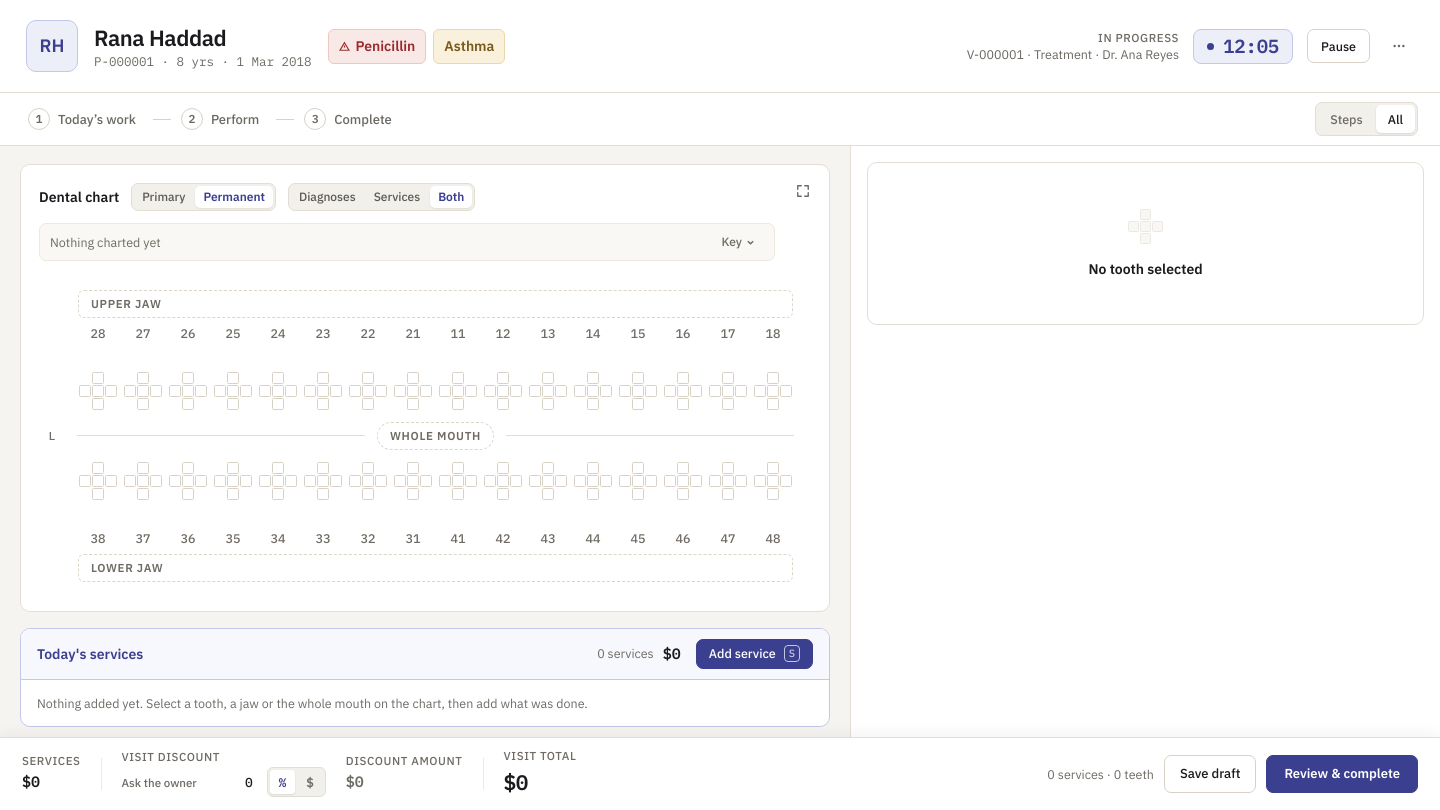
Scenario: ToothPanel › marks a tooth missing from the Presence menu at once, with an Undo toast (feature 7, H1)
Expected: the element named "Upper arch" is shown, [78,324,793,411]
Click the button named "#36 · ".
click(188, 504)  # box [168,461,208,548]
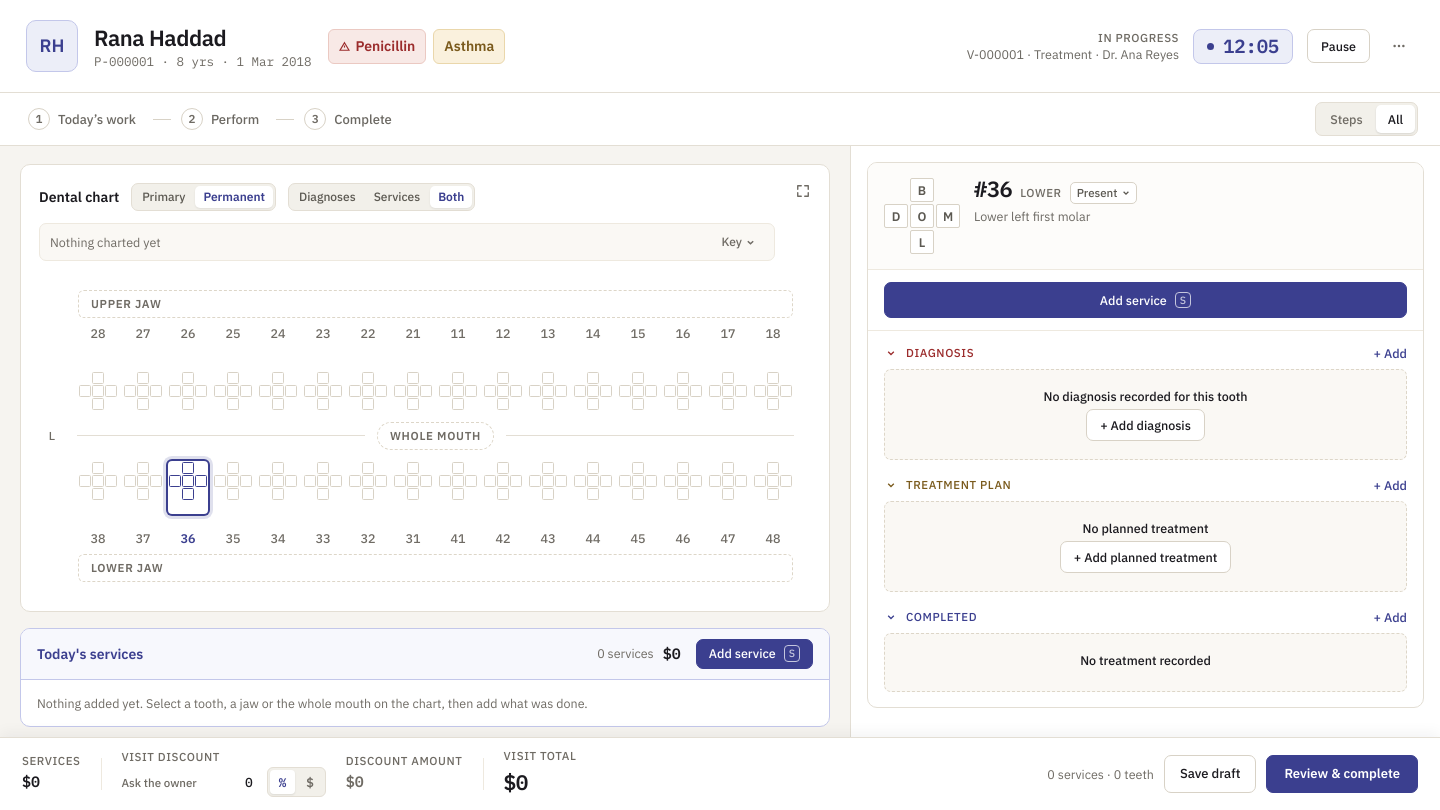
Press the mouse on the button with aria-label "Presence of tooth 36: Present" at (1103, 193), box [1070,182,1136,204]
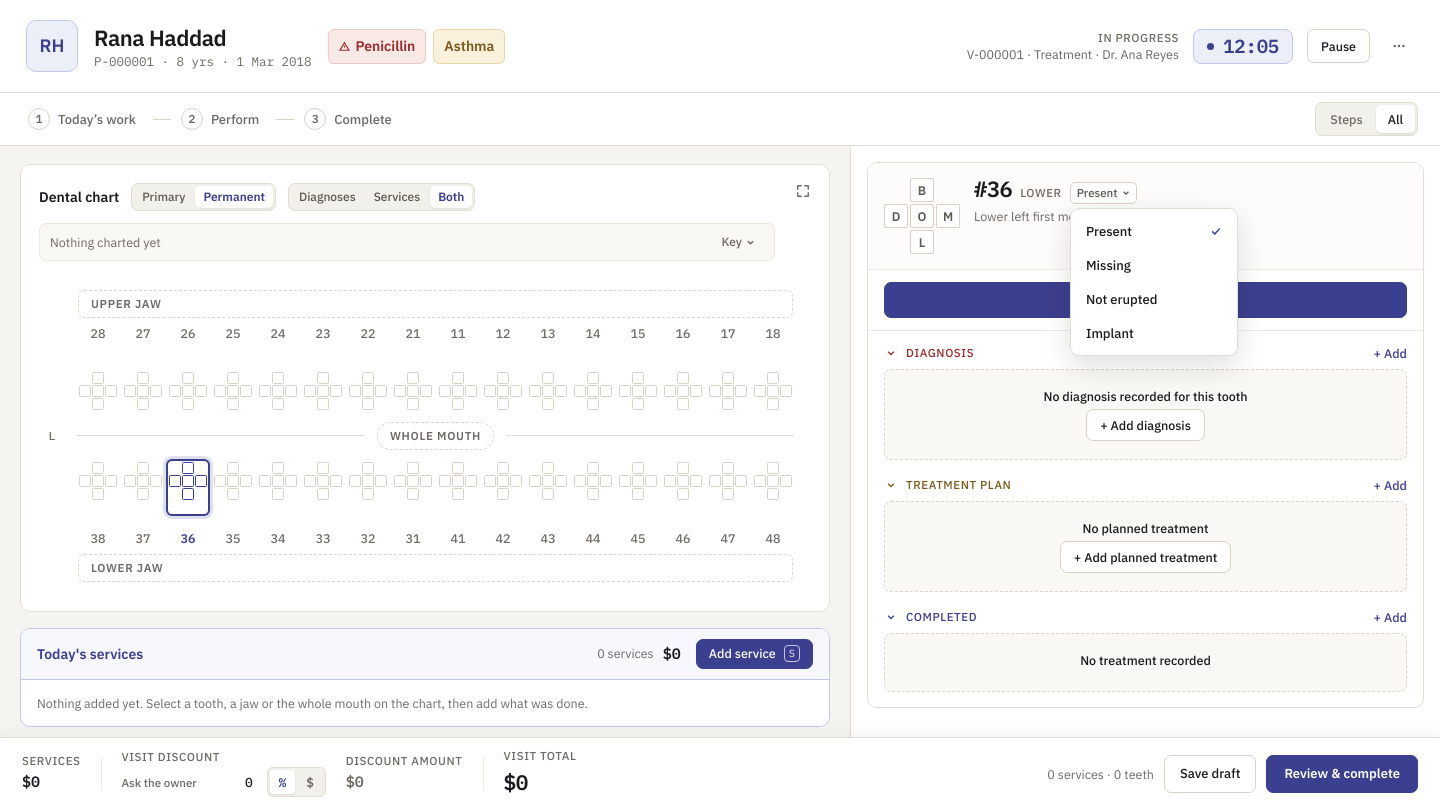
Click the menu item "Missing".
click(1108, 265)  # box [1086,256,1131,274]
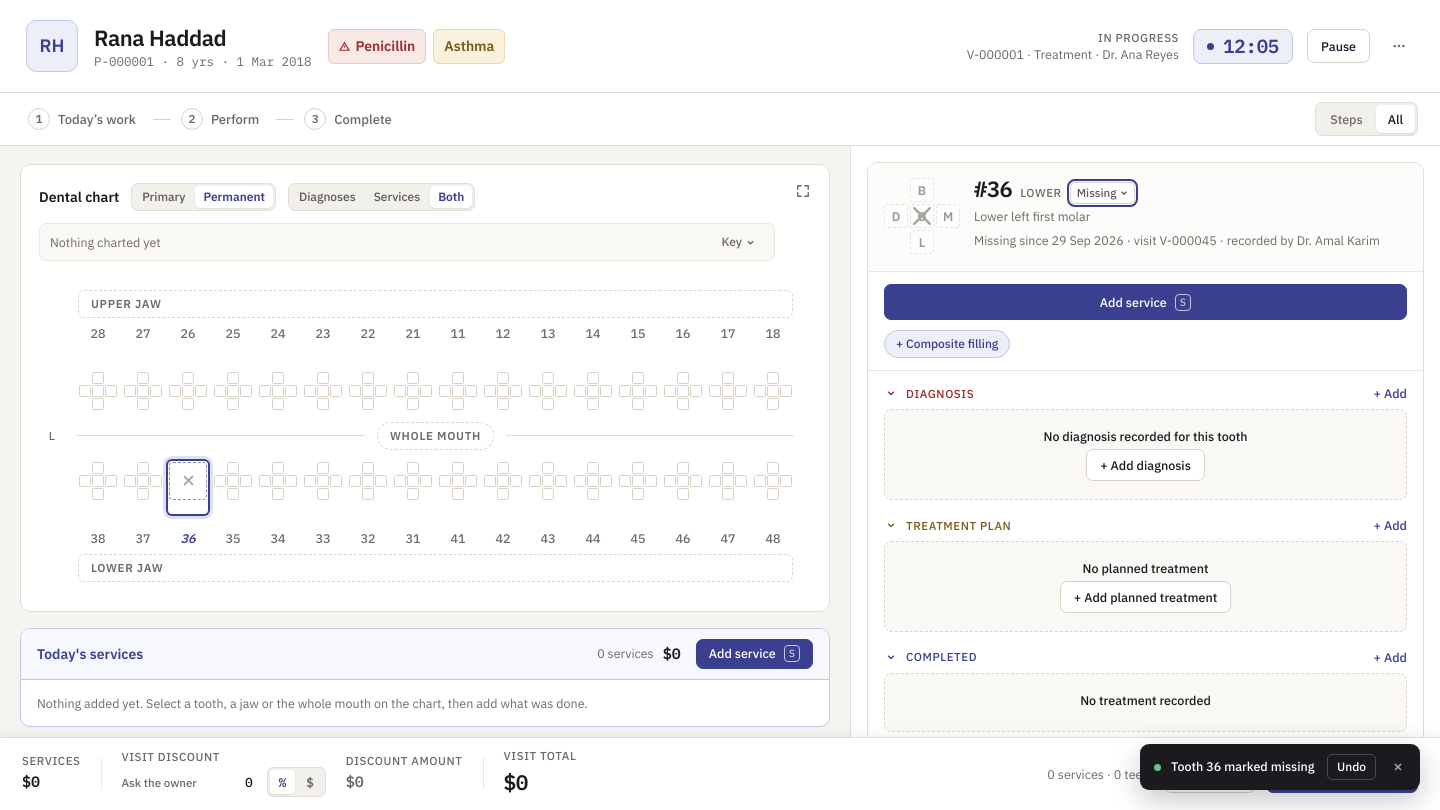
Expected: the button "Undo" is shown, [1327,754,1376,780]
Expected: the button with aria-label "Presence of tooth 36: Missing" is shown, [1070,182,1135,204]
Expected: the text "Missing since 29 Sep" is shown, [974,232,1380,248]
